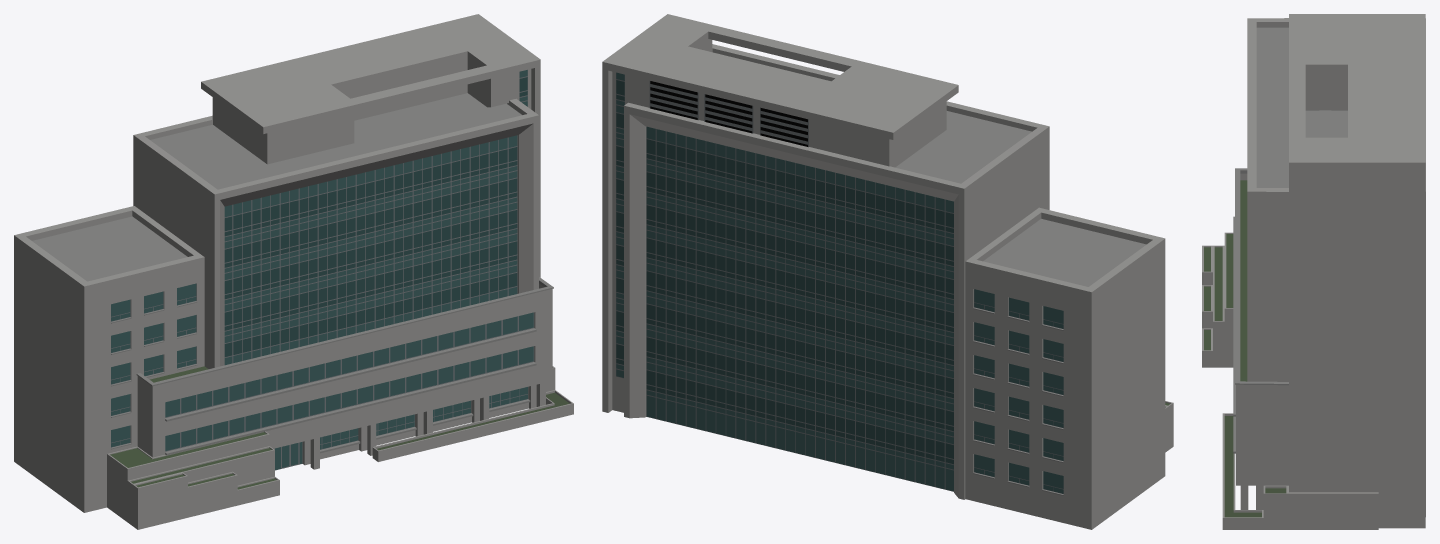
Rendered from 07_진리관.FBX.
The picture shows the model from 3 angles, left to right: view 1: azimuth 30°, elevation 25°; view 2: azimuth 150°, elevation 25°; view 3: azimuth 270°, elevation 25°; orthographic projection. The views are drawn at different scales.
Parts seen in each view (by area): view 1: 07_진리관; view 2: 07_진리관; view 3: 07_진리관.
Part boxes in pixels (x1,y1,x2,y2): 07_진리관: (14, 14, 573, 529); 07_진리관: (602, 14, 1173, 529); 07_진리관: (1202, 14, 1425, 529).
Size of the model in its own units: 231 by 157 by 87.
